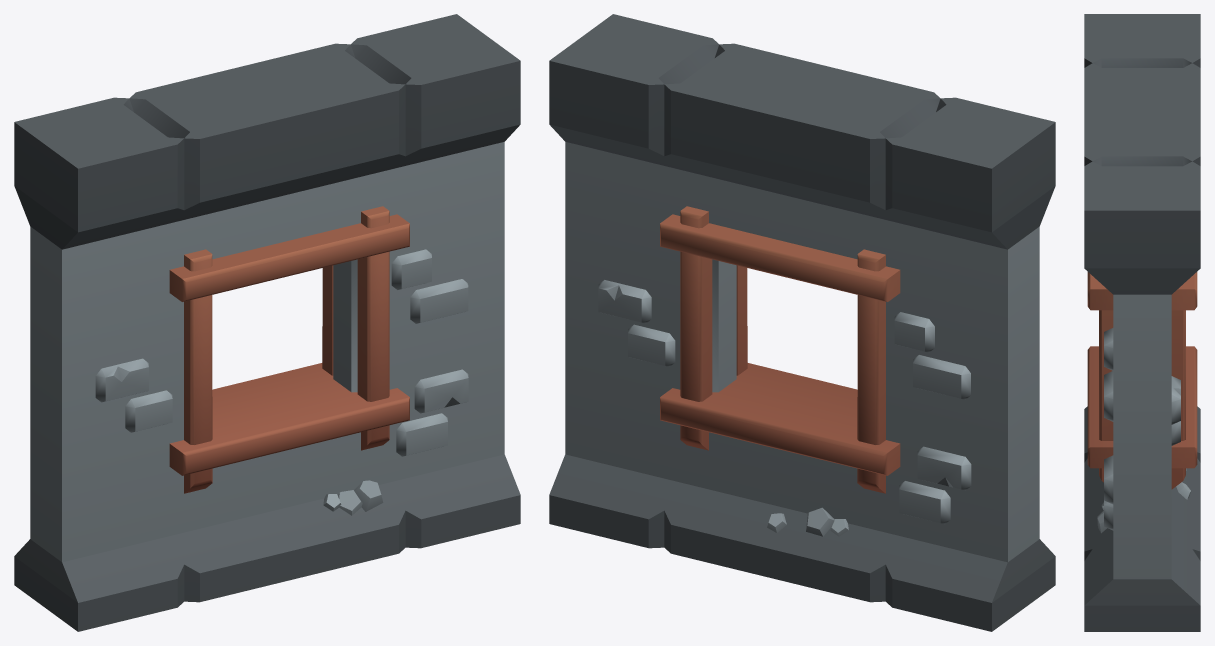
File: wall_win.fbx
3 renders of one model, left to right at view 1: azimuth 30°, elevation 25°; view 2: azimuth 150°, elevation 25°; view 3: azimuth 270°, elevation 25°, orthographic. The views are drawn at different scales.
Visible parts, largest first — view 1: wall_window_open; view 2: wall_window_open; view 3: wall_window_open.
Boxes of the visible parts, box(x1,y1,x2,y2) form: wall_window_open: box(14, 14, 520, 631); wall_window_open: box(549, 14, 1055, 631); wall_window_open: box(1084, 14, 1200, 631).
Bounding box in the file's own units: 400 × 400 × 100.
1 material, 1 textured.
